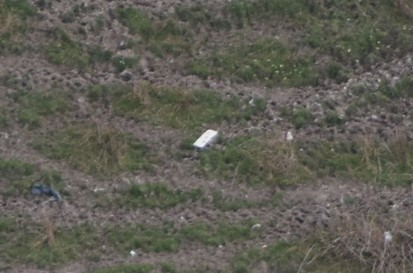white_in_green: (169, 110, 243, 168), (14, 166, 78, 218)
